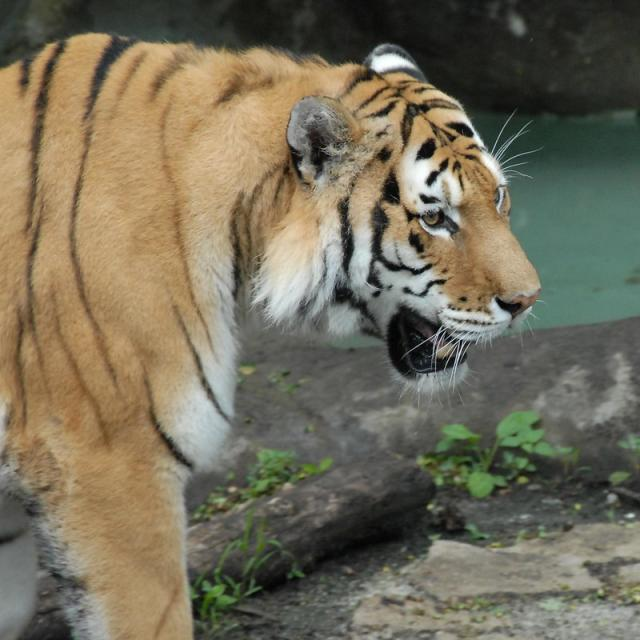Tiger: (6, 24, 538, 618)
